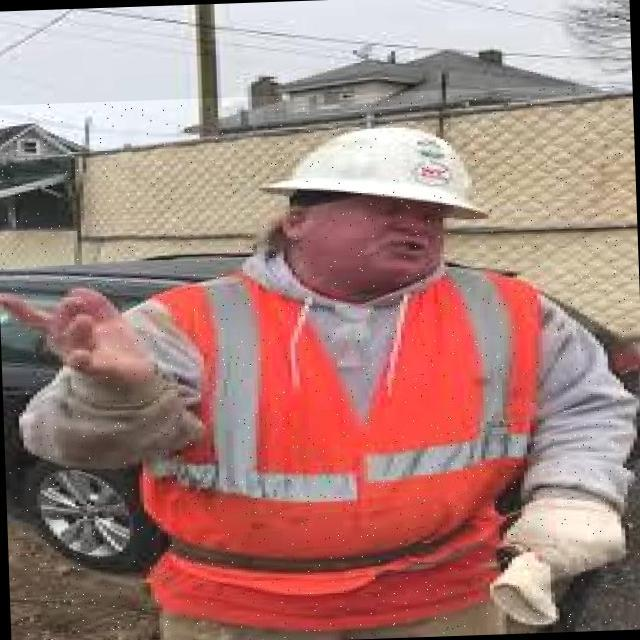Gloves: (484, 474, 637, 632)
Helmet: (259, 121, 490, 227)
Person: (0, 94, 640, 640)
Safety Vest: (134, 262, 549, 600)
bare-arms: (4, 270, 167, 403)
